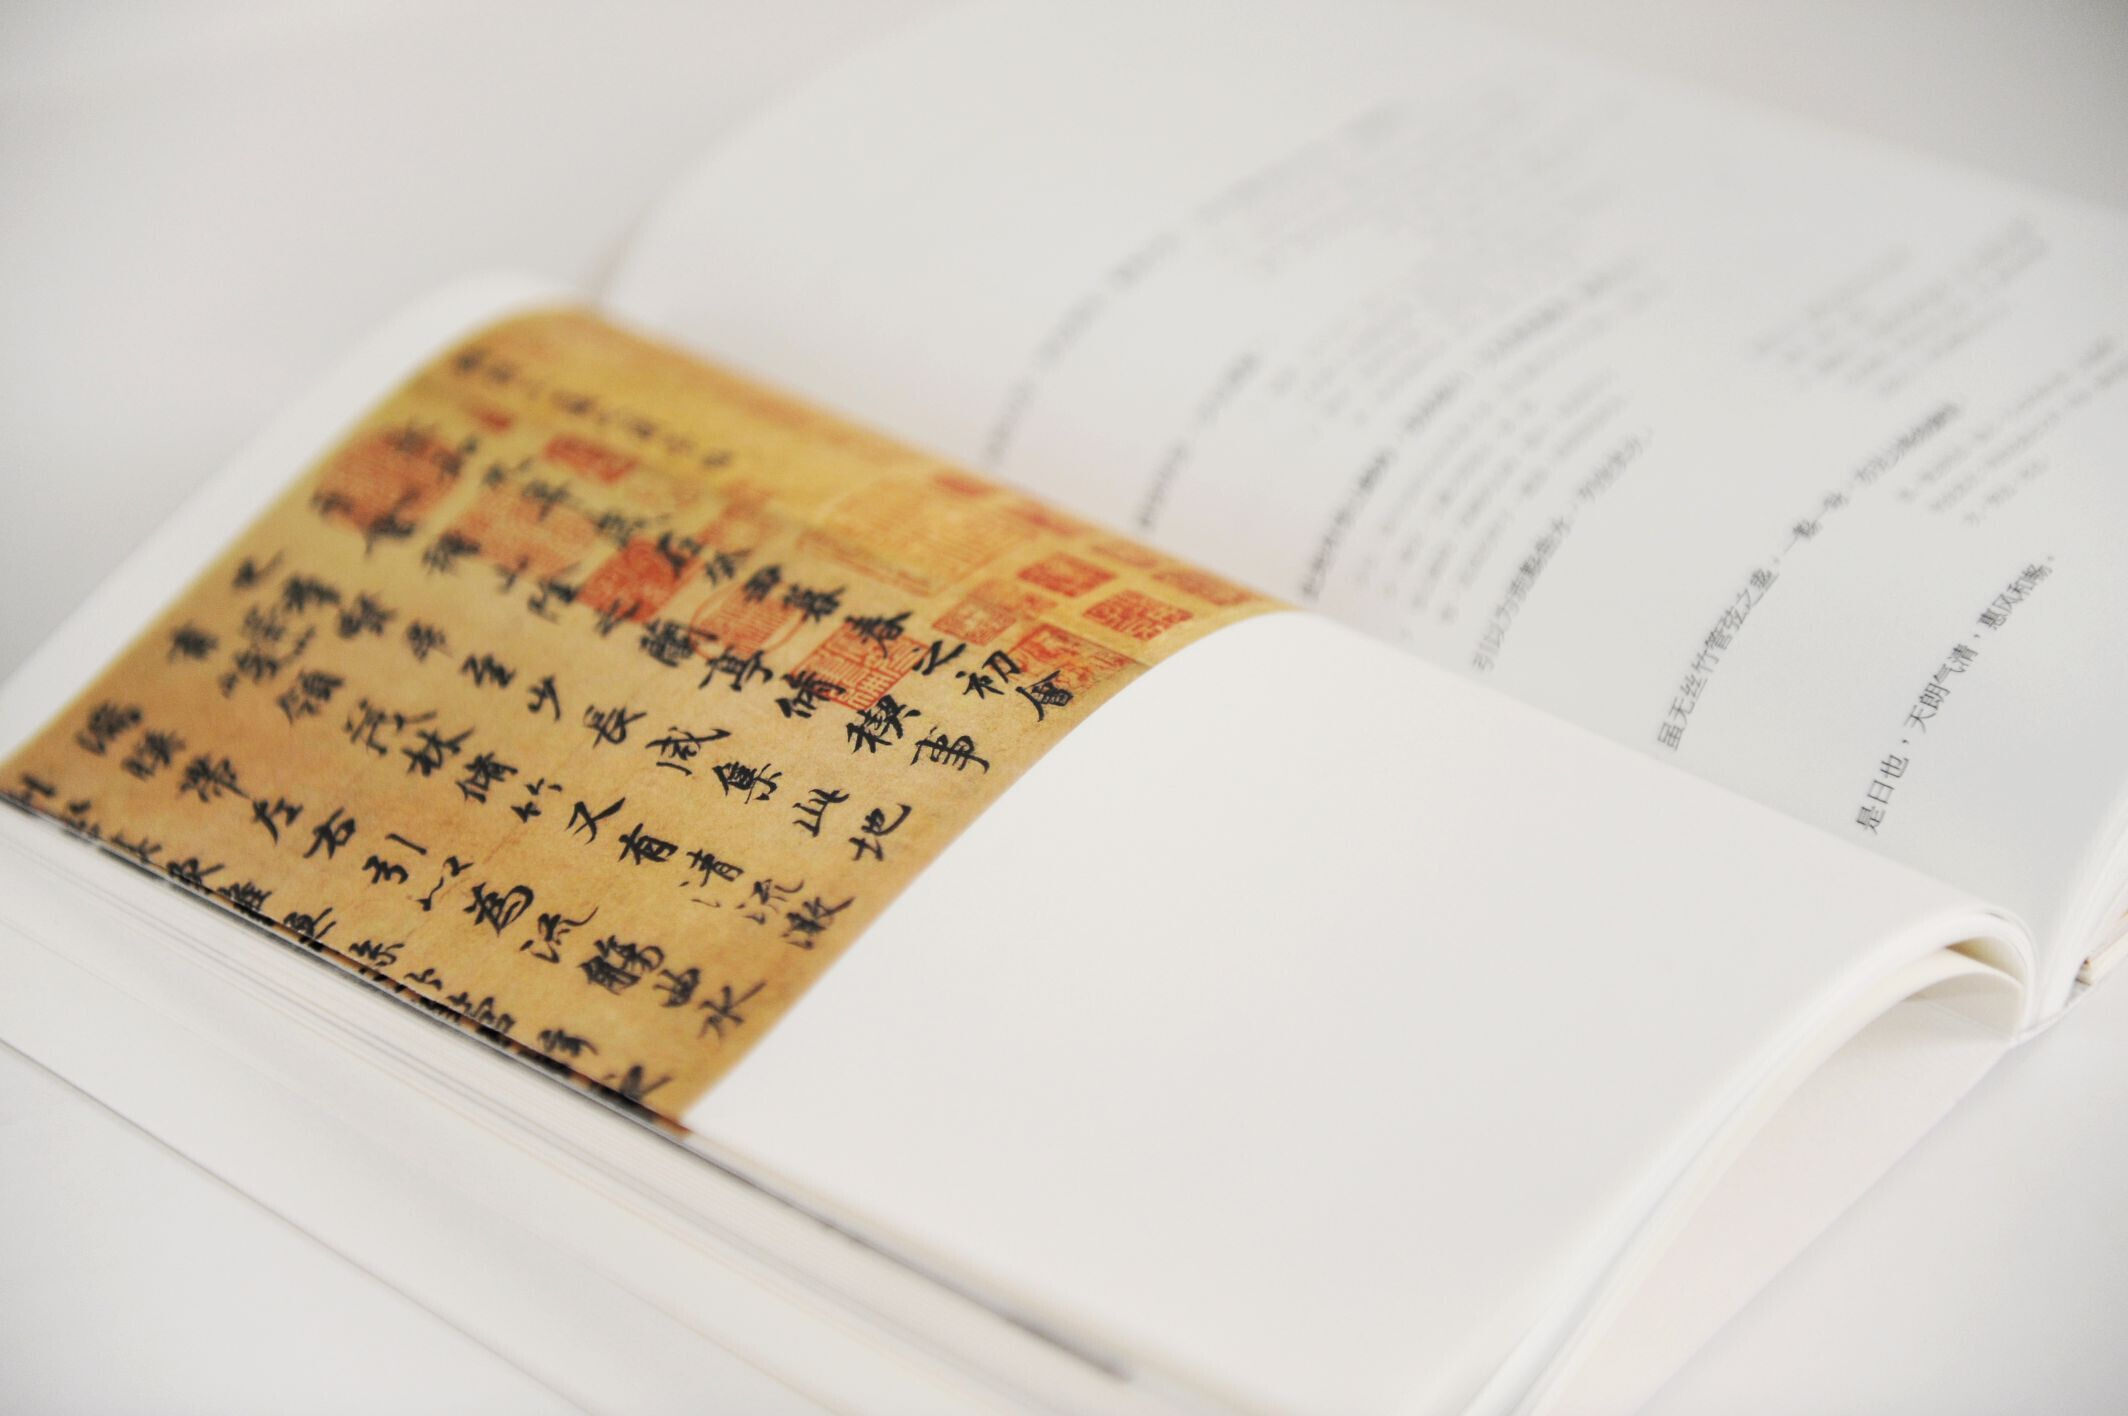book: (3, 17, 2117, 1389)
